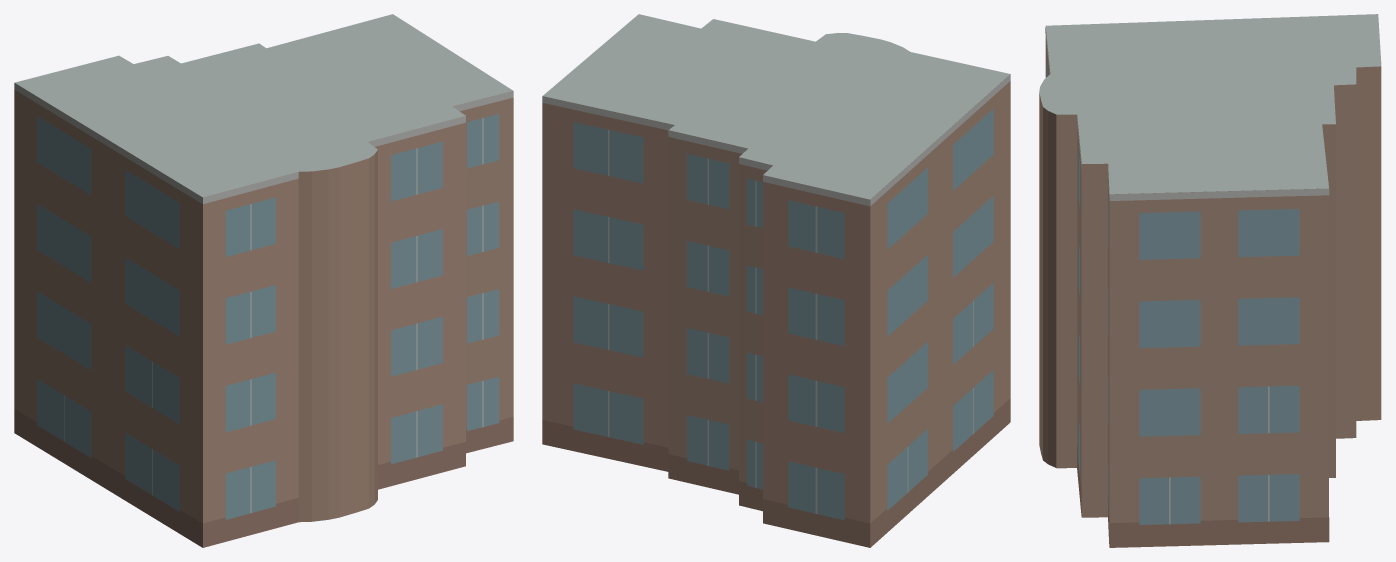
Rendered from survey-upis-32458097.glb.
3 renders of one model, left to right at view 1: azimuth 30°, elevation 25°; view 2: azimuth 150°, elevation 25°; view 3: azimuth 270°, elevation 25°, orthographic.
Visible parts, largest first — view 1: survey-upis-32458097.tmp; view 2: survey-upis-32458097.tmp; view 3: survey-upis-32458097.tmp.
Part boxes in pixels (left/top/right/bottom): survey-upis-32458097.tmp: left=14, top=14, right=513, bottom=547; survey-upis-32458097.tmp: left=542, top=14, right=1010, bottom=547; survey-upis-32458097.tmp: left=1039, top=14, right=1381, bottom=547.
Bounding box in the file's own units: 13.79 × 12.6 × 11.06.
